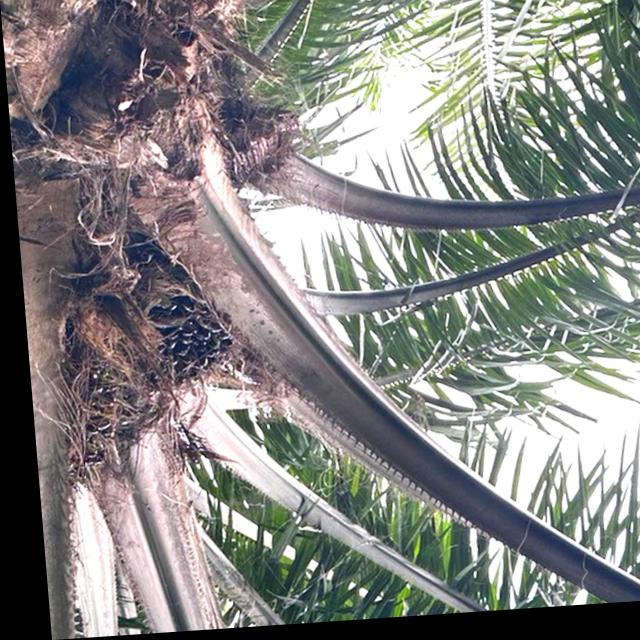unripe: (79, 229, 238, 405)
